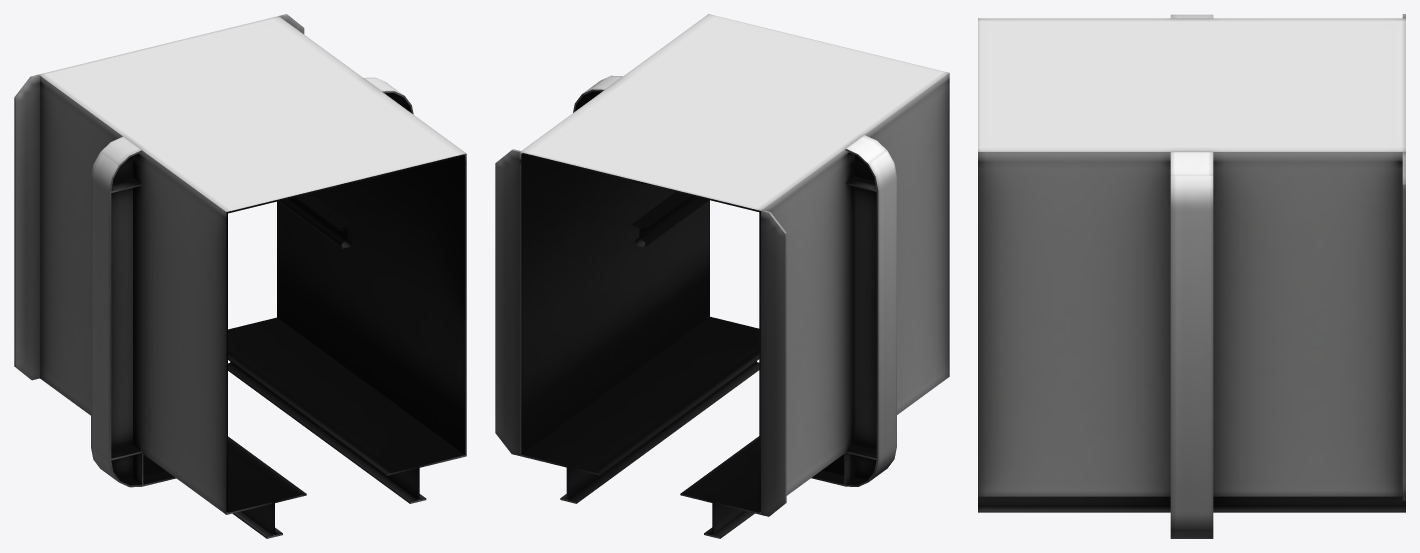
Rendered from track_1.obj.
The picture shows the model from 3 angles, left to right: view 1: azimuth 30°, elevation 25°; view 2: azimuth 150°, elevation 25°; view 3: azimuth 270°, elevation 25°; orthographic projection. The views are drawn at different scales.
Visible parts, largest first — view 1: main_track.002, reinforce_structure_a2.002, reinforce_structure_b1.002, reinforce_structure_a1.002, 3rd_rail.002; view 2: main_track.002, reinforce_structure_b1.002, reinforce_structure_a2.002, reinforce_structure_a1.002, 3rd_rail.002; view 3: main_track.002, reinforce_structure_a2.002, reinforce_structure_b1.002.
Boxes of the visible parts, bbox=[...] form: main_track.002: bbox=[39, 16, 466, 538]; reinforce_structure_a2.002: bbox=[91, 77, 413, 487]; reinforce_structure_b1.002: bbox=[14, 14, 304, 380]; reinforce_structure_a1.002: bbox=[111, 93, 402, 478]; 3rd_rail.002: bbox=[278, 193, 354, 248]; main_track.002: bbox=[519, 14, 949, 538]; reinforce_structure_b1.002: bbox=[495, 149, 786, 516]; reinforce_structure_a2.002: bbox=[573, 75, 896, 486]; reinforce_structure_a1.002: bbox=[584, 91, 876, 478]; 3rd_rail.002: bbox=[632, 192, 708, 247]; main_track.002: bbox=[978, 18, 1405, 512]; reinforce_structure_a2.002: bbox=[1170, 14, 1213, 538]; reinforce_structure_b1.002: bbox=[1402, 14, 1405, 500].
Bounding box in the file's own units: 1.89 × 1.99 × 2.02.
1 material, 1 textured.
